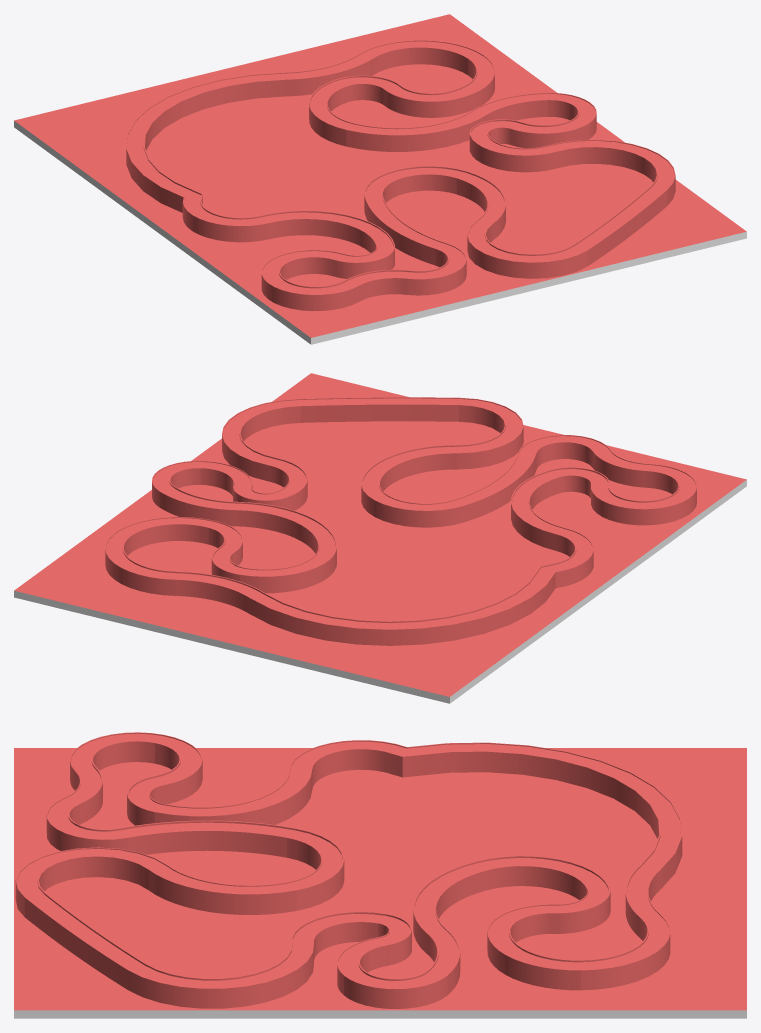
Rendered from big_track_w_rails.fbx.
3 renders of one model, top to bottom at view 1: azimuth 30°, elevation 25°; view 2: azimuth 150°, elevation 25°; view 3: azimuth 270°, elevation 25°, orthographic. The views are drawn at different scales.
Parts seen in each view (by area): view 1: Model; view 2: Model; view 3: Model.
Boxes of the visible parts, x1=… form: Model: x1=14, y1=14, x2=746, y2=344; Model: x1=14, y1=373, x2=746, y2=703; Model: x1=14, y1=732, x2=746, y2=1018.
Size of the model in its own units: 41062 by 2118 by 48487.
